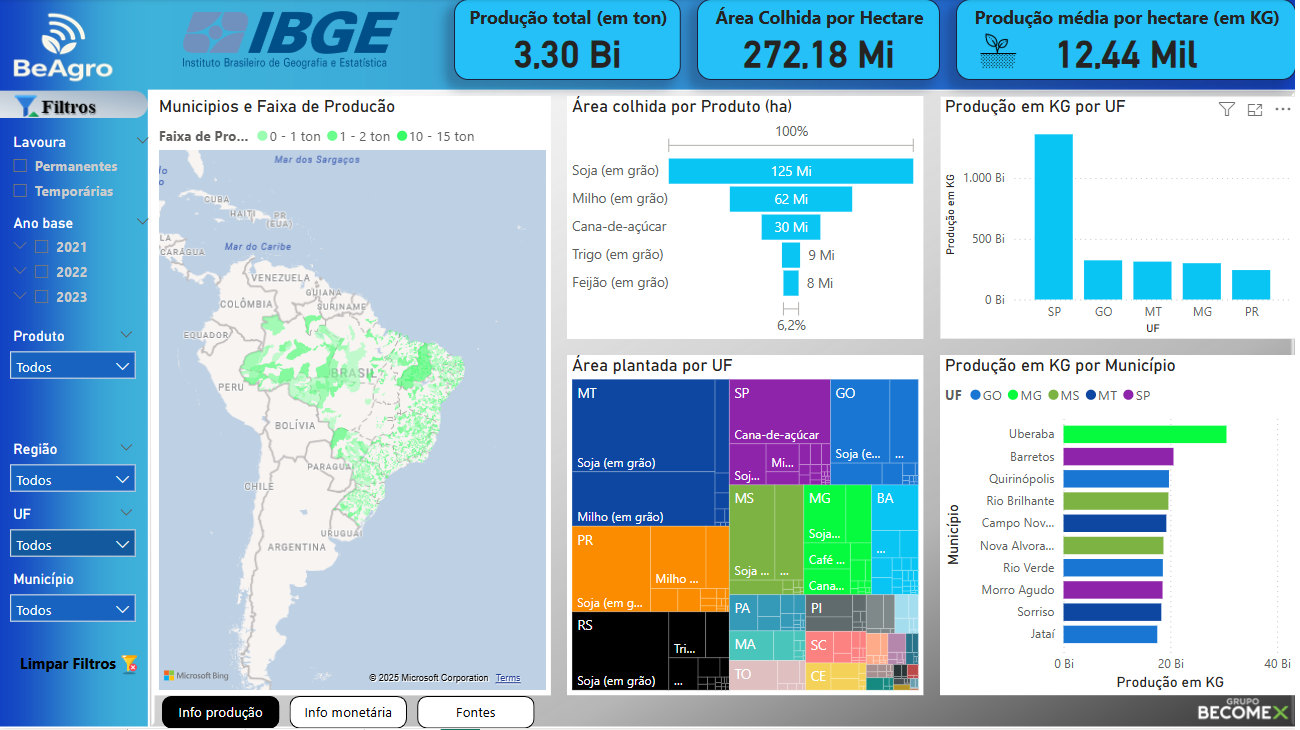

Layout of this report page (visuals, bound fields, positions):
{"tool":"powerbi","page":{"name":"Info produção","canvas":[1280,720],"ordinal":0},"visuals":[{"type":"card","title":"Área Colhida por Hectare","fields":{"Values":["Sum(Sheet1.Área colhida)"]},"box":[688,0,240,80],"z":0},{"type":"pageNavigator","box":[160,688,368,32],"z":1000},{"type":"slicer","fields":{"Values":["RegioesBrasil.Regiao"]},"box":[0,432,144,64],"z":2000},{"type":"actionButton","box":[288,688,112,32],"z":3000},{"type":"card","title":"Produção média por hectare (em KG)","fields":{"Values":["Avg(Sheet1.Rendimento médio por hectare)"]},"box":[944,0,336,80],"z":4000,"group":"g1"},{"type":"slicer","fields":{"Values":["Sheet1.UF"]},"box":[0,496,144,64],"z":4000},{"type":"actionButton","box":[416,688,112,32],"z":5000},{"type":"card","title":"Produção total (em ton)","fields":{"Values":["Sum(Sheet1.Producao_total_toneladass)"]},"box":[448,0,224,80],"z":6000},{"type":"slicer","fields":{"Values":["Sheet1.Nome_Município"]},"box":[0,560,144,64],"z":7000},{"type":"slicer","fields":{"Values":["Sheet1.Lavoura"]},"box":[0,128,160,96],"z":8000},{"type":"slicer","fields":{"Values":["Sheet1.Ano.1","Sheet1.Valor monetario da produção"]},"box":[0,208,160,128],"z":9000},{"type":"slicer","fields":{"Values":["Sheet1.Produto"]},"box":[0,320,144,64],"z":10000},{"type":"columnChart","title":"Produção  por UF ","fields":{"Category":["Sheet1.UF"],"Y":["Sum(Sheet1.Producao_total_toneladas)"]},"box":[928,96,352,240],"z":11000},{"type":"barChart","title":"Produção  por Município","fields":{"Category":["Sheet1.Nome_Município"],"Series":["Sheet1.UF"],"Y":["Sum(Sheet1.Producao_total_toneladas)"]},"box":[928,352,352,336],"z":12000},{"type":"image","box":[959.3,21.8,53.5,58.2],"z":13000,"group":"g1"},{"type":"actionButton","box":[16,640,112,32],"z":13000},{"type":"funnel","title":"Área colhida por Produto (ha)","fields":{"Category":["Sheet1.Produto"],"Y":["Sum(Sheet1.Área colhida)"]},"box":[560,96,352,240],"z":14000},{"type":"image","box":[112,640,32,32],"z":15000},{"type":"filledMap","fields":{"Category":["Sheet1.Municipios_UF"],"Series":["Sheet1.Faixa_Producao"]},"box":[152,96,392,592],"z":16000},{"type":"group","id":"g1","title":"Grupo 2","box":[944,0,336,80],"z":17000},{"type":"treemap","title":"Produto colhido em Tonelada","fields":{"Details":["Sheet1.Produto"],"Group":["Sheet1.UF"],"Values":["Sum(Principal.Producao_total_toneladas)"]},"box":[560,352,352,336],"z":18000},{"type":"image","box":[176,0,224,80],"z":19000}]}

Visuals, with their boxes in screenshot pixels (x1, y1, x2, y2), scaled from the page's 1280x720 canvas onto the 1300x730 screenshot:
"Área Colhida por Hectare" card: 699/0/942/81
pageNavigator: 162/698/536/729
slicer - RegioesBrasil.Regiao: 0/438/146/503
actionButton: 292/698/406/729
"Produção média por hectare (em KG)" card: 959/0/1299/81
slicer - Sheet1.UF: 0/503/146/568
actionButton: 422/698/536/729
"Produção total (em ton)" card: 455/0/682/81
slicer - Sheet1.Nome_Município: 0/568/146/633
slicer - Sheet1.Lavoura: 0/130/162/227
slicer - Sheet1.Ano.1 x Sheet1.Valor monetario da produção: 0/211/162/341
slicer - Sheet1.Produto: 0/324/146/389
"Produção  por UF " columnChart: 942/97/1299/341
"Produção  por Município" barChart: 942/357/1299/698
image: 974/22/1029/81
actionButton: 16/649/130/681
"Área colhida por Produto (ha)" funnel: 569/97/926/341
image: 114/649/146/681
filledMap - Sheet1.Municipios_UF x Sheet1.Faixa_Producao: 154/97/552/698
"Grupo 2" group: 959/0/1299/81
"Produto colhido em Tonelada" treemap: 569/357/926/698
image: 179/0/406/81
